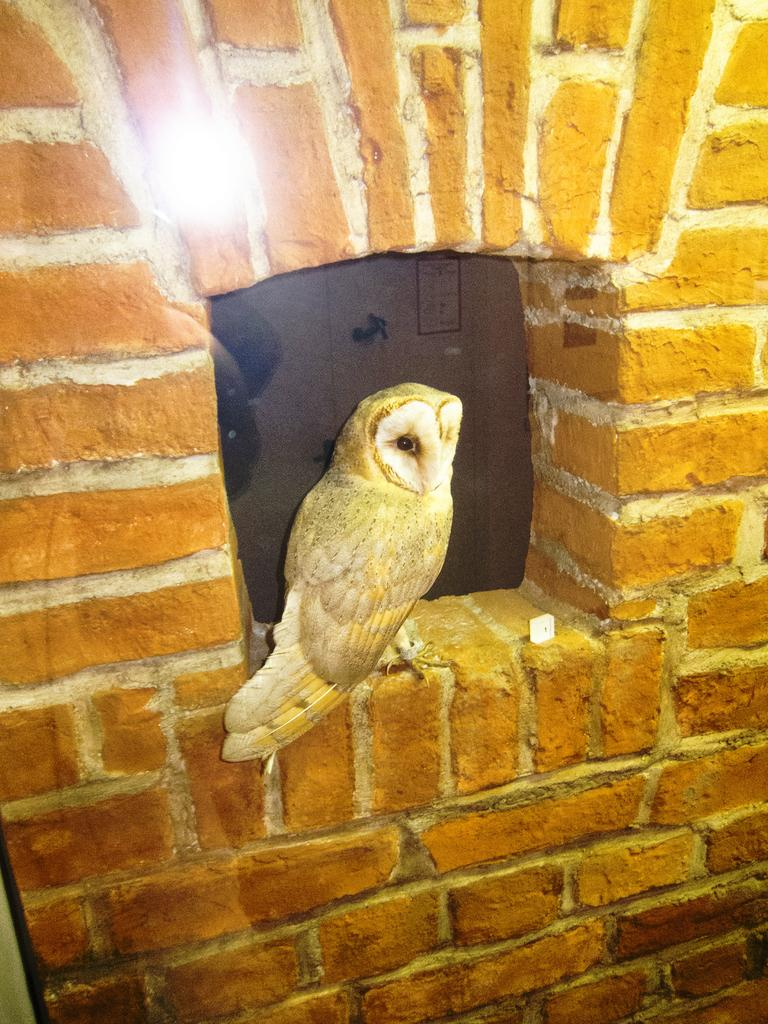Owl: (213, 379, 466, 767)
